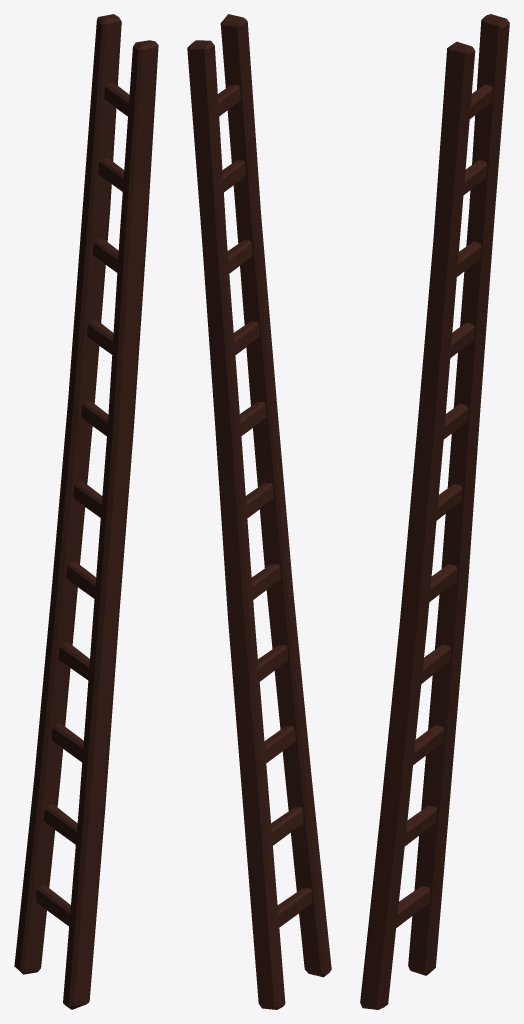
File: ladder_2.FBX
3 renders of one model, left to right at view 1: azimuth 30°, elevation 25°; view 2: azimuth 150°, elevation 25°; view 3: azimuth 330°, elevation 25°, orthographic. The views are drawn at different scales.
Parts seen in each view (by area): view 1: ladder_2; view 2: ladder_2; view 3: ladder_2.
Boxes of the visible parts, x1=… form: ladder_2: x1=14, y1=14, x2=158, y2=1009; ladder_2: x1=187, y1=14, x2=331, y2=1009; ladder_2: x1=360, y1=14, x2=509, y2=1009.
Bounding box in the file's own units: 94.37 × 859 × 94.75.
